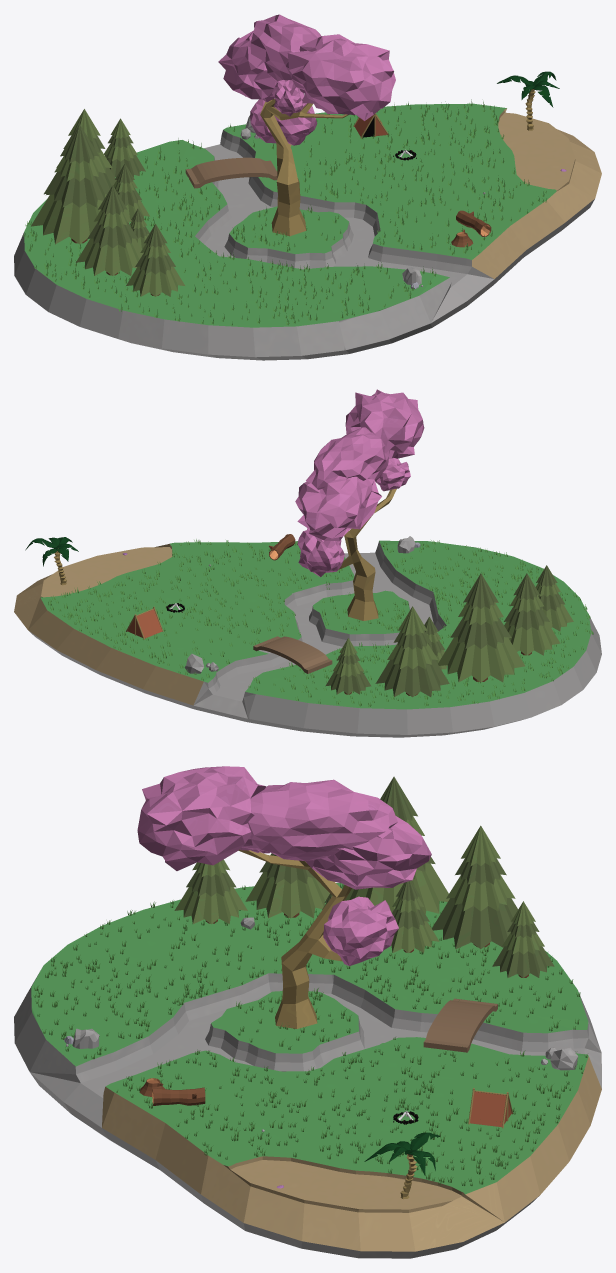
File: insel - cutesy.fbx
The picture shows the model from 3 angles, top to bottom: view 1: azimuth 30°, elevation 25°; view 2: azimuth 150°, elevation 25°; view 3: azimuth 270°, elevation 25°; orthographic projection. The views are drawn at different scales.
Visible parts, largest first — view 1: Island.002, Forest.003, Sakuratree Blossoms full.002, Grassblades.002, Sakuratree.004, Bridge.002, Palmtree.002, Tent.002, Wood, Beach.002; view 2: Island.002, Forest.003, Sakuratree Blossoms full.002, Grassblades.002, Sakuratree.004, Bridge.002, Palmtree.002, Tent.002; view 3: Island.002, Sakuratree Blossoms full.002, Forest.003, Grassblades.002, Sakuratree.004, Bridge.002, Tent.002, Palmtree.002, Wood, Beach.002, Stones, Tent.002.
Part boxes in pixels (left/top/right/bottom): Island.002: left=14, top=103, right=601, bottom=360; Forest.003: left=31, top=109, right=184, bottom=296; Sakuratree Blossoms full.002: left=218, top=14, right=395, bottom=145; Grassblades.002: left=23, top=99, right=546, bottom=325; Sakuratree.004: left=260, top=99, right=348, bottom=236; Bridge.002: left=185, top=157, right=277, bottom=188; Palmtree.002: left=497, top=71, right=559, bottom=130; Tent.002: left=353, top=113, right=388, bottom=138; Wood, Beach.002: left=456, top=210, right=491, bottom=236; Island.002: left=14, top=540, right=601, bottom=737; Forest.003: left=325, top=565, right=573, bottom=697; Sakuratree Blossoms full.002: left=295, top=389, right=424, bottom=576; Grassblades.002: left=48, top=539, right=593, bottom=706; Sakuratree.004: left=338, top=488, right=396, bottom=620; Bridge.002: left=253, top=636, right=332, bottom=673; Palmtree.002: left=25, top=537, right=78, bottom=585; Tent.002: left=126, top=606, right=163, bottom=639; Island.002: left=14, top=883, right=601, bottom=1258; Sakuratree Blossoms full.002: left=137, top=766, right=431, bottom=966; Forest.003: left=174, top=776, right=554, bottom=977; Grassblades.002: left=33, top=883, right=587, bottom=1185; Sakuratree.004: left=238, top=849, right=351, bottom=1028; Bridge.002: left=423, top=998, right=497, bottom=1052; Tent.002: left=468, top=1088, right=513, bottom=1128; Palmtree.002: left=364, top=1132, right=439, bottom=1199; Wood, Beach.002: left=152, top=1087, right=205, bottom=1105; Stones, Tent.002: left=541, top=1047, right=578, bottom=1070.
Bounding box in the file's own units: 4519 × 2106 × 3253.
